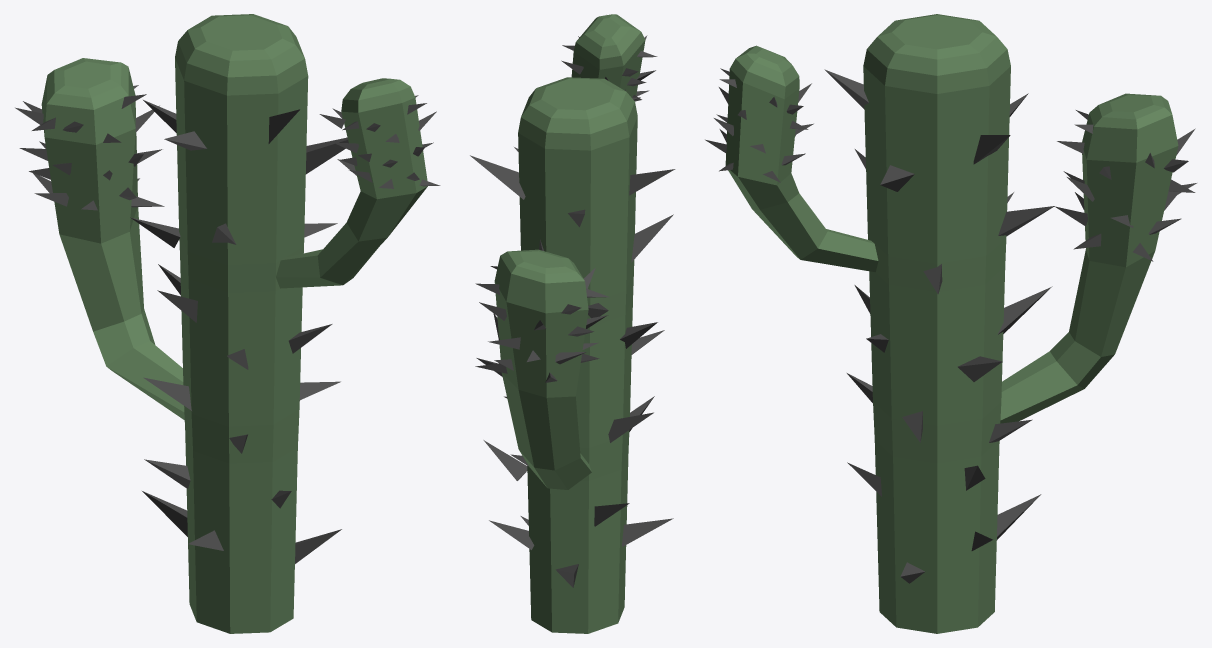
File: kaktus_1.fbx
The picture shows the model from 3 angles, left to right: view 1: azimuth 30°, elevation 25°; view 2: azimuth 150°, elevation 25°; view 3: azimuth 270°, elevation 25°; orthographic projection. The views are drawn at different scales.
Parts seen in each view (by area): view 1: Cylinder; view 2: Cylinder; view 3: Cylinder.
Boxes of the visible parts, left/top/right/bottom form: Cylinder: left=15, top=14, right=440, bottom=633; Cylinder: left=470, top=14, right=675, bottom=633; Cylinder: left=705, top=14, right=1196, bottom=633.
Size of the model in its own units: 2.74 by 6.68 by 5.1.
